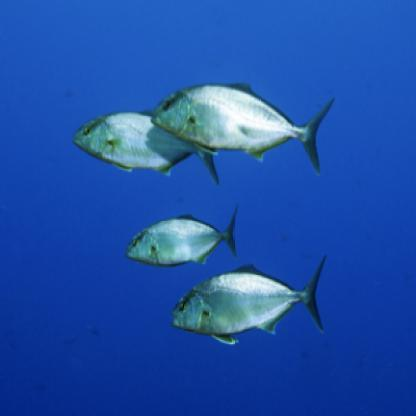jack: (152, 76, 340, 179), (165, 247, 334, 353), (72, 101, 223, 192), (123, 199, 249, 265)
